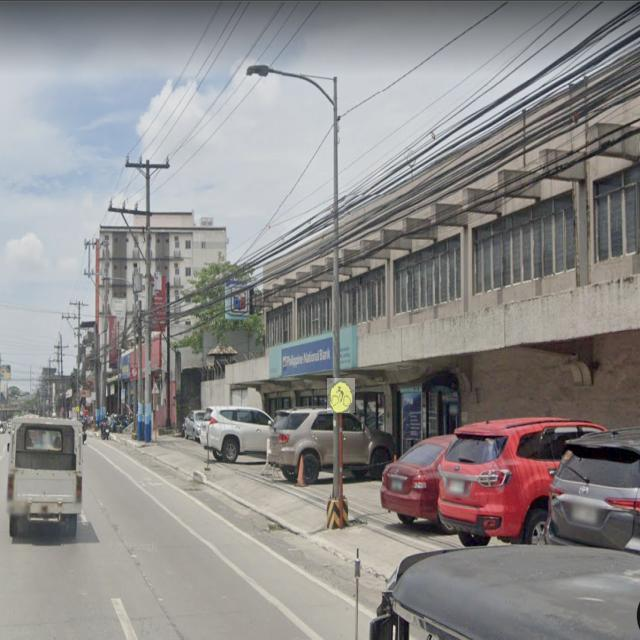bike lane: (327, 378, 355, 413)
